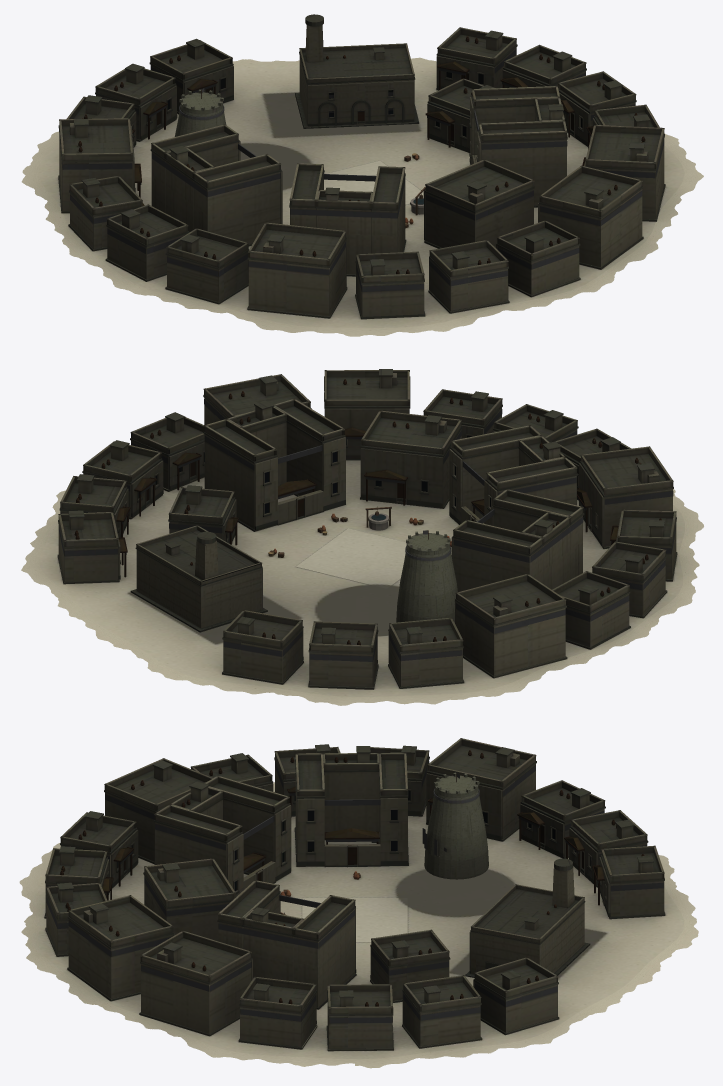
File: classical-town-big-b-eastafrica-eb080ba9.glb
The picture shows the model from 3 angles, top to bottom: view 1: azimuth 30°, elevation 25°; view 2: azimuth 150°, elevation 25°; view 3: azimuth 270°, elevation 25°; orthographic projection.
Parts seen in each view (by area): view 1: LOD0; view 2: LOD0; view 3: LOD0.
Part boxes in pixels (box(x1,y1,x2,y2)): LOD0: box(21, 14, 703, 336); LOD0: box(21, 369, 703, 705); LOD0: box(19, 738, 698, 1068).
Size of what is drawn, in the model's own units: 7.88 by 1.2 by 7.93.
3 materials, 3 textured.
